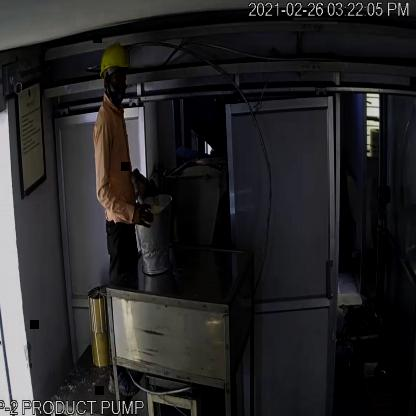helmet: (99, 41, 130, 84)
